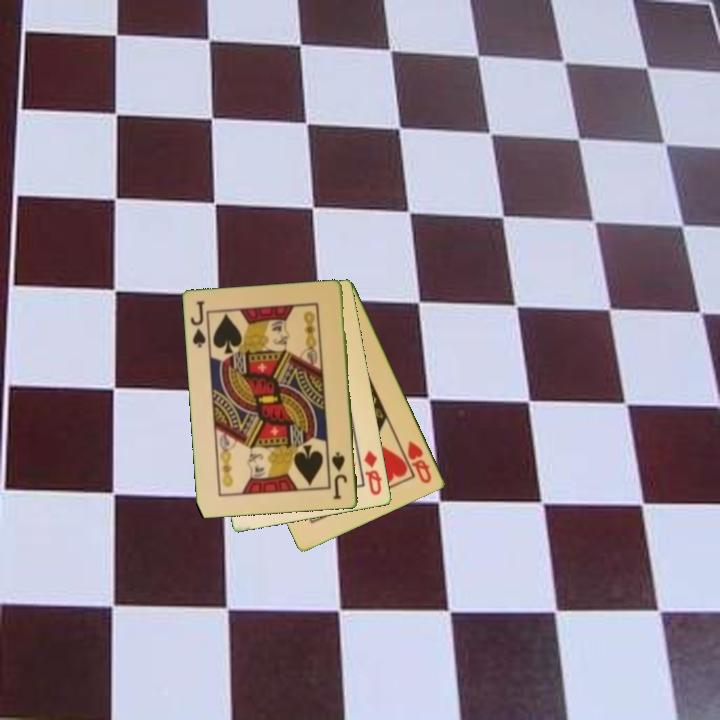Js: (329, 449, 350, 502), (188, 298, 209, 351)
Qd: (360, 447, 385, 498)
Qh: (404, 437, 435, 487)
